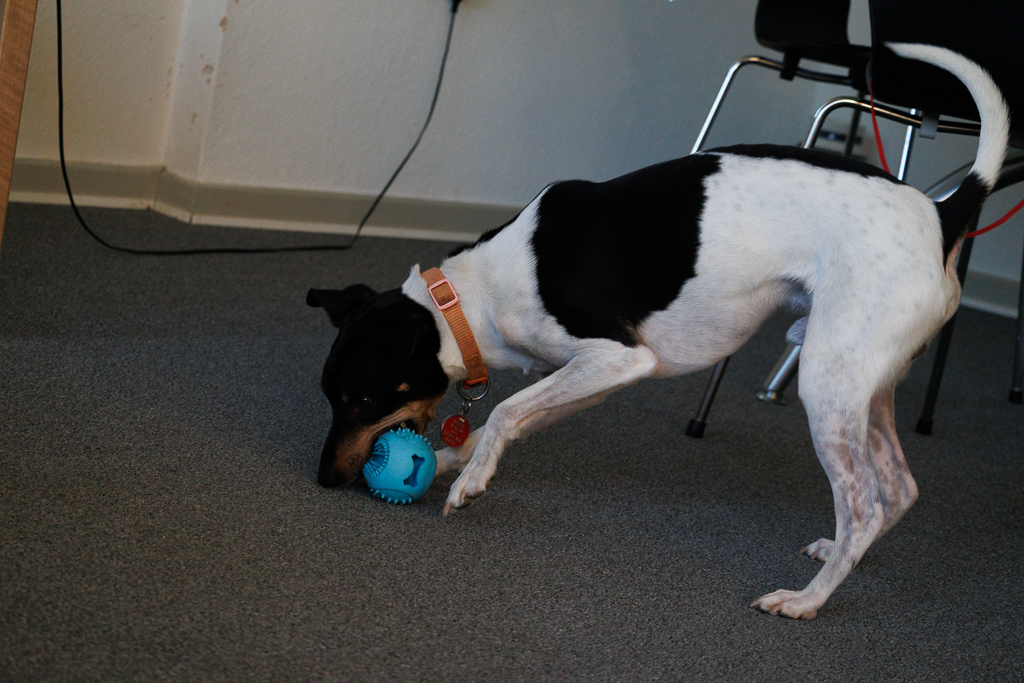Dog: (299, 40, 1013, 628)
